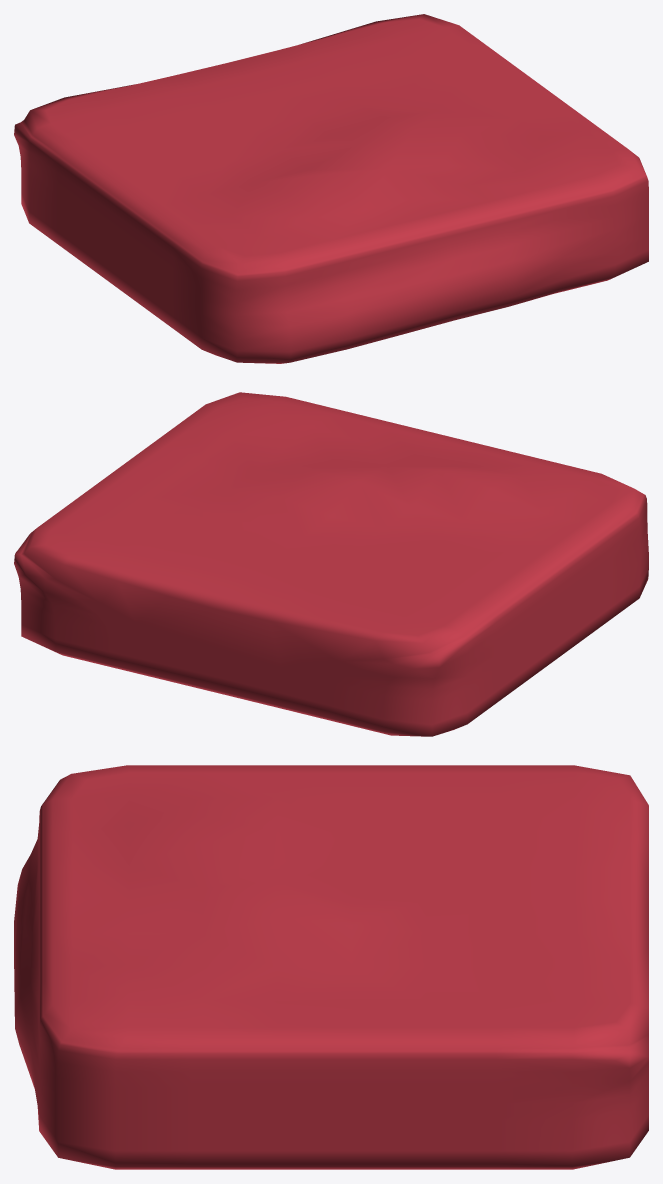
The model's file is geo_CouchCushion.fbx.
3 views of the same model, one above another, from view 1: azimuth 30°, elevation 25°; view 2: azimuth 150°, elevation 25°; view 3: azimuth 270°, elevation 25° (orthographic). The views are drawn at different scales.
Visible parts, largest first — view 1: pCube54; view 2: pCube54; view 3: pCube54.
Part boxes in pixels (box(x1,y1,x2,y2)): pCube54: box(14, 14, 648, 363); pCube54: box(14, 392, 648, 736); pCube54: box(14, 765, 648, 1169).
Size of the model in its own units: 67.86 by 20.41 by 64.06.
1 material, 1 textured.
